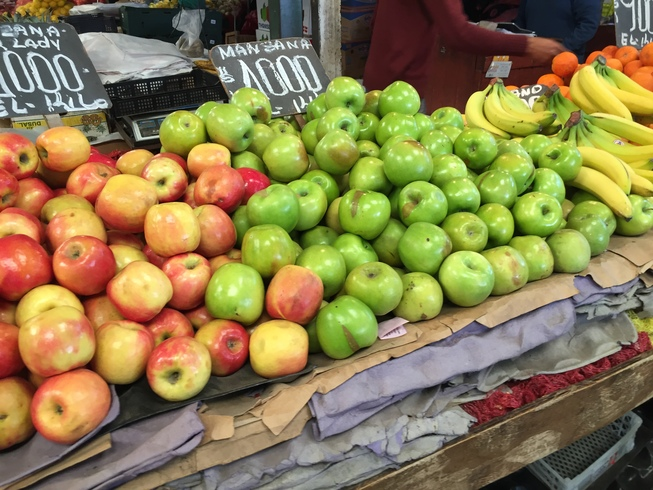precio: (1, 21, 108, 118), (213, 40, 333, 124)
